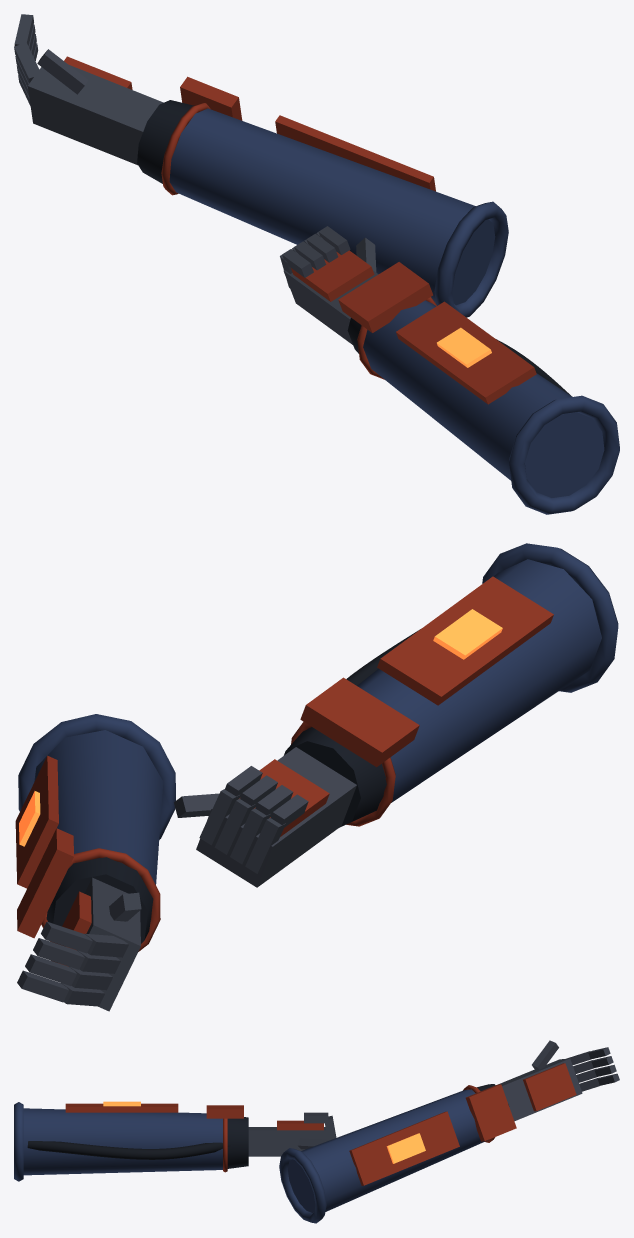
File: hands_ember.glb
3 views of the same model, one above another, from view 1: azimuth 30°, elevation 25°; view 2: azimuth 150°, elevation 25°; view 3: azimuth 270°, elevation 25° (orthographic). The views are drawn at different scales.
Visible parts, largest first — view 1: hand_l_forearm, hand_r_forearm, hand_l_palm, hand_r_forearm_plate, hand_r_sleeve_roll, hand_l_sleeve_roll, hand_r_cuff_plate, hand_l_forearm_plate, hand_l_cuff, hand_r_knuckle_plate, hand_r_palm, hand_l_cuff_plate (+3 smaller); view 2: hand_r_forearm, hand_l_forearm, hand_r_forearm_plate, hand_r_cuff_plate, hand_r_palm, hand_r_sleeve_roll, hand_l_sleeve_roll, hand_r_cuff, hand_l_cuff, hand_l_forearm_plate, hand_l_cuff_plate, hand_l_palm (+21 smaller); view 3: hand_r_forearm, hand_l_forearm, hand_l_forearm_plate, hand_r_hose, hand_l_cuff_plate, hand_r_palm, hand_l_sleeve_roll, hand_l_knuckle_plate, hand_l_palm, hand_r_cuff, hand_r_forearm_plate, hand_r_sleeve_roll (+5 smaller).
Part boxes in pixels (x1,y1,x2,y2): hand_l_forearm: [169, 108, 495, 305]; hand_r_forearm: [363, 300, 604, 497]; hand_l_palm: [27, 65, 163, 165]; hand_r_forearm_plate: [396, 301, 536, 404]; hand_r_sleeve_roll: [509, 395, 619, 514]; hand_l_sleeve_roll: [434, 201, 508, 317]; hand_r_cuff_plate: [338, 262, 432, 332]; hand_l_forearm_plate: [275, 115, 435, 191]; hand_l_cuff: [137, 100, 194, 183]; hand_r_knuckle_plate: [291, 250, 374, 301]; hand_r_palm: [283, 270, 378, 344]; hand_l_cuff_plate: [180, 76, 242, 120]; hand_r_forearm: [357, 559, 601, 802]; hand_l_forearm: [34, 730, 163, 884]; hand_r_forearm_plate: [377, 576, 553, 705]; hand_r_cuff_plate: [300, 677, 419, 767]; hand_r_palm: [196, 747, 356, 887]; hand_r_sleeve_roll: [482, 543, 618, 692]; hand_l_sleeve_roll: [18, 714, 175, 839]; hand_r_cuff: [284, 727, 386, 827]; hand_l_cuff: [46, 857, 153, 943]; hand_l_forearm_plate: [15, 755, 58, 888]; hand_l_cuff_plate: [17, 828, 73, 938]; hand_l_palm: [84, 877, 140, 1011]; hand_r_forearm: [23, 1108, 222, 1175]; hand_l_forearm: [287, 1089, 488, 1212]; hand_l_forearm_plate: [349, 1111, 459, 1185]; hand_r_hose: [27, 1141, 230, 1159]; hand_l_cuff_plate: [465, 1084, 516, 1141]; hand_r_palm: [248, 1127, 333, 1156]; hand_l_sleeve_roll: [279, 1148, 326, 1223]; hand_l_knuckle_plate: [523, 1063, 576, 1111]; hand_l_palm: [498, 1058, 582, 1121]; hand_r_cuff: [227, 1117, 248, 1168]; hand_r_forearm_plate: [65, 1103, 178, 1112]; hand_r_sleeve_roll: [14, 1102, 23, 1181].
Size of the model in its own units: 0.2218 by 0.1311 by 0.6456.
